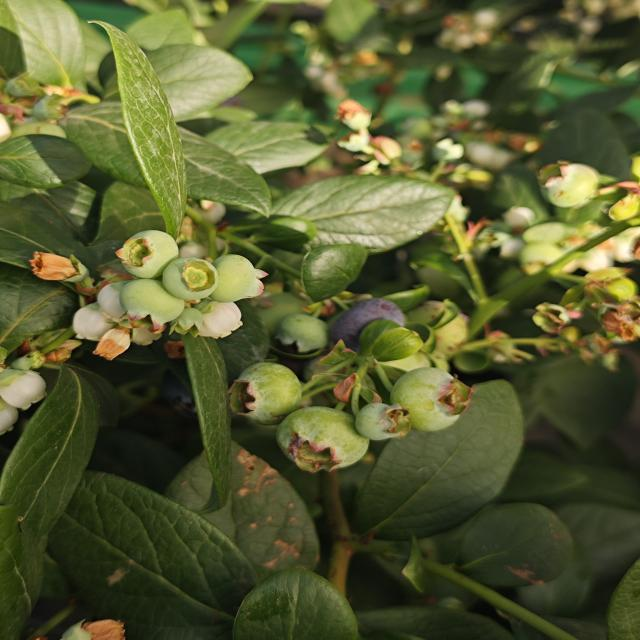ripe: (322, 293, 423, 357)
